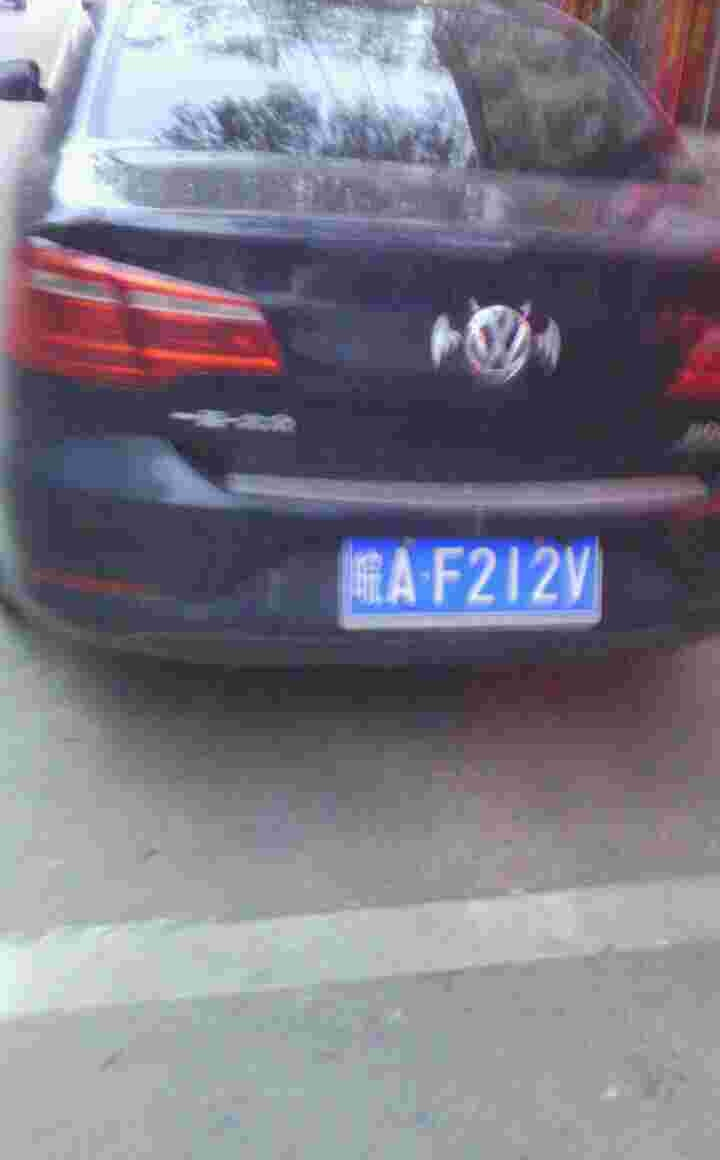car: (335, 532, 606, 622)
